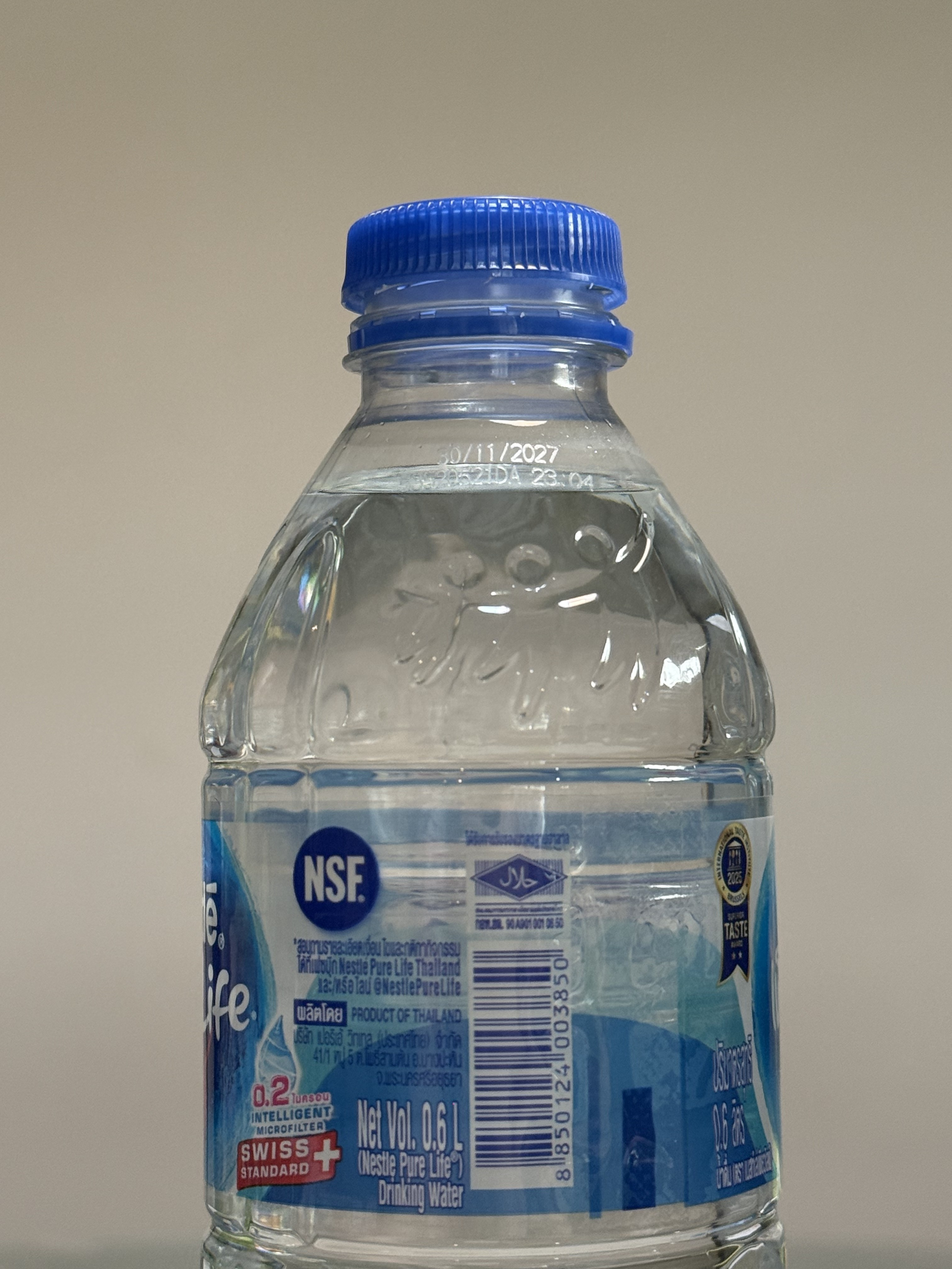half_cap: (332, 189, 638, 369)
